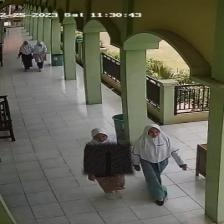Cadar_Niqab: (83, 128, 133, 174)
